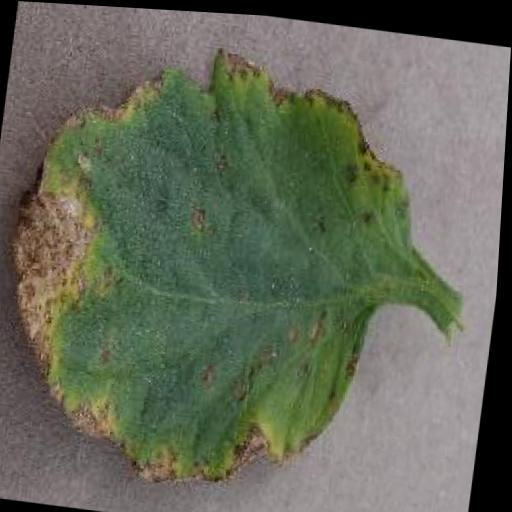Bacterial Spot: (0, 17, 496, 512)
